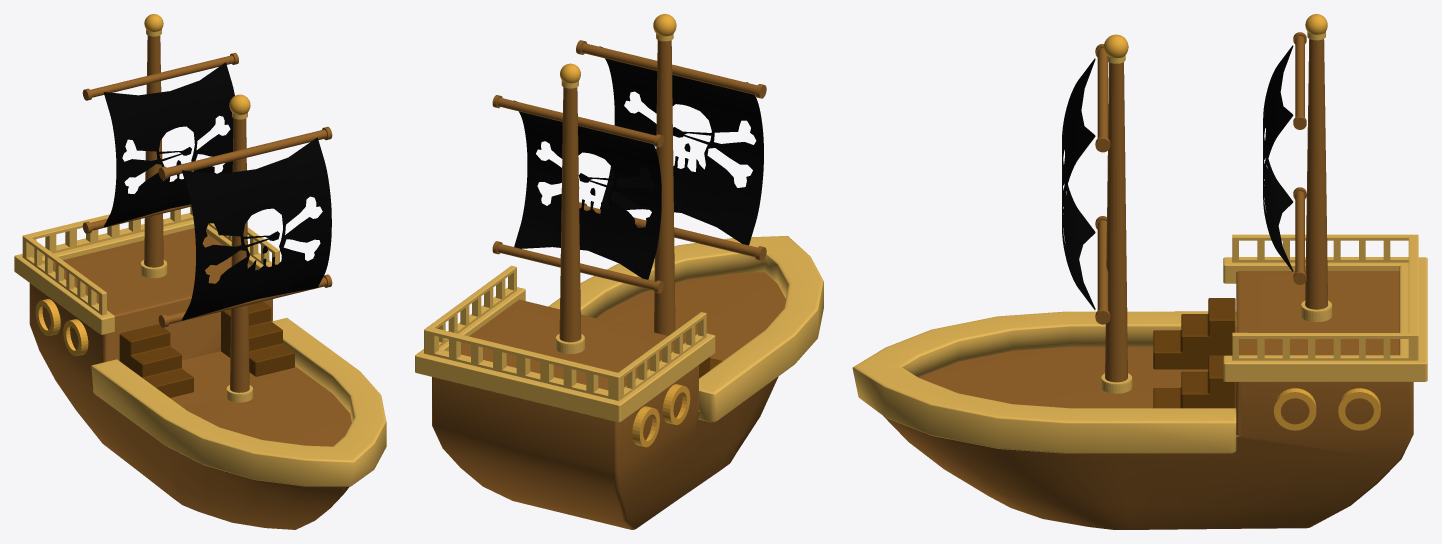
Rendered from pirate_small.fbx.
The picture shows the model from 3 angles, left to right: view 1: azimuth 30°, elevation 25°; view 2: azimuth 150°, elevation 25°; view 3: azimuth 270°, elevation 25°; orthographic projection. The views are drawn at different scales.
Parts seen in each view (by area): view 1: Cube, Cube.001, Plane, Plane.001, Cube.002, Cube.005, Cube.004, Cylinder, Cylinder.001, Cylinder.007, Cylinder.010, Cylinder.008 (+3 smaller); view 2: Cube, Cube.002, Cube.001, Plane, Plane.001, Cylinder, Cylinder.001, Cylinder.007, Cylinder.010, Cylinder.009, Cylinder.008, Cylinder.012 (+1 smaller); view 3: Cube, Cube.001, Cube.002, Cylinder, Cylinder.001, Cube.005, Plane, Plane.001, Cube.004, Cylinder.007, Cylinder.008, Cylinder.010 (+3 smaller).
Boxes of the visible parts, box(x1,y1,x2,y2) form: Cube: box(29, 228, 351, 529); Cube.001: box(91, 318, 386, 486); Plane: box(182, 137, 331, 320); Plane.001: box(104, 62, 234, 227); Cube.002: box(14, 206, 279, 334); Cube.005: box(119, 324, 193, 397); Cube.004: box(221, 301, 294, 376); Cylinder: box(230, 118, 249, 392); Cylinder.001: box(144, 35, 163, 267); Cylinder.007: box(158, 126, 332, 179); Cylinder.010: box(82, 53, 238, 100); Cylinder.008: box(158, 274, 332, 327); Cube: box(432, 272, 785, 529); Cube.002: box(415, 265, 715, 422); Cube.001: box(548, 236, 823, 422); Plane: box(599, 46, 763, 245); Plane.001: box(513, 100, 661, 279); Cylinder: box(654, 40, 675, 335); Cylinder.001: box(559, 87, 581, 342); Cylinder.007: box(576, 40, 766, 98); Cylinder.010: box(492, 95, 664, 147); Cylinder.009: box(492, 241, 664, 293); Cylinder.008: box(579, 202, 766, 260); Cylinder.012: box(662, 384, 690, 424); Cube: box(883, 271, 1413, 529); Cube.001: box(852, 311, 1236, 453); Cube.002: box(1223, 234, 1427, 381); Cylinder: box(1105, 62, 1127, 382); Cylinder.001: box(1305, 39, 1327, 309); Cube.005: box(1153, 298, 1235, 369); Plane: box(1062, 58, 1095, 309); Plane.001: box(1263, 45, 1293, 271); Cube.004: box(1153, 355, 1235, 408); Cylinder.007: box(1095, 44, 1110, 152); Cylinder.008: box(1095, 216, 1110, 324); Cylinder.010: box(1293, 32, 1306, 129).
Size of the model in its own units: 575 by 1156 by 1254.
